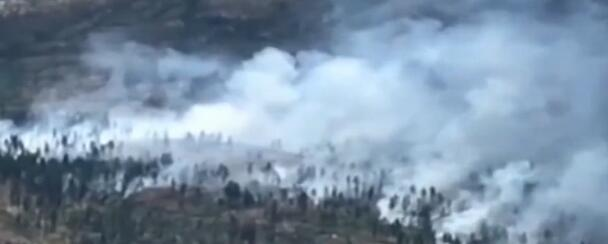yanwu: (6, 0, 607, 232)
